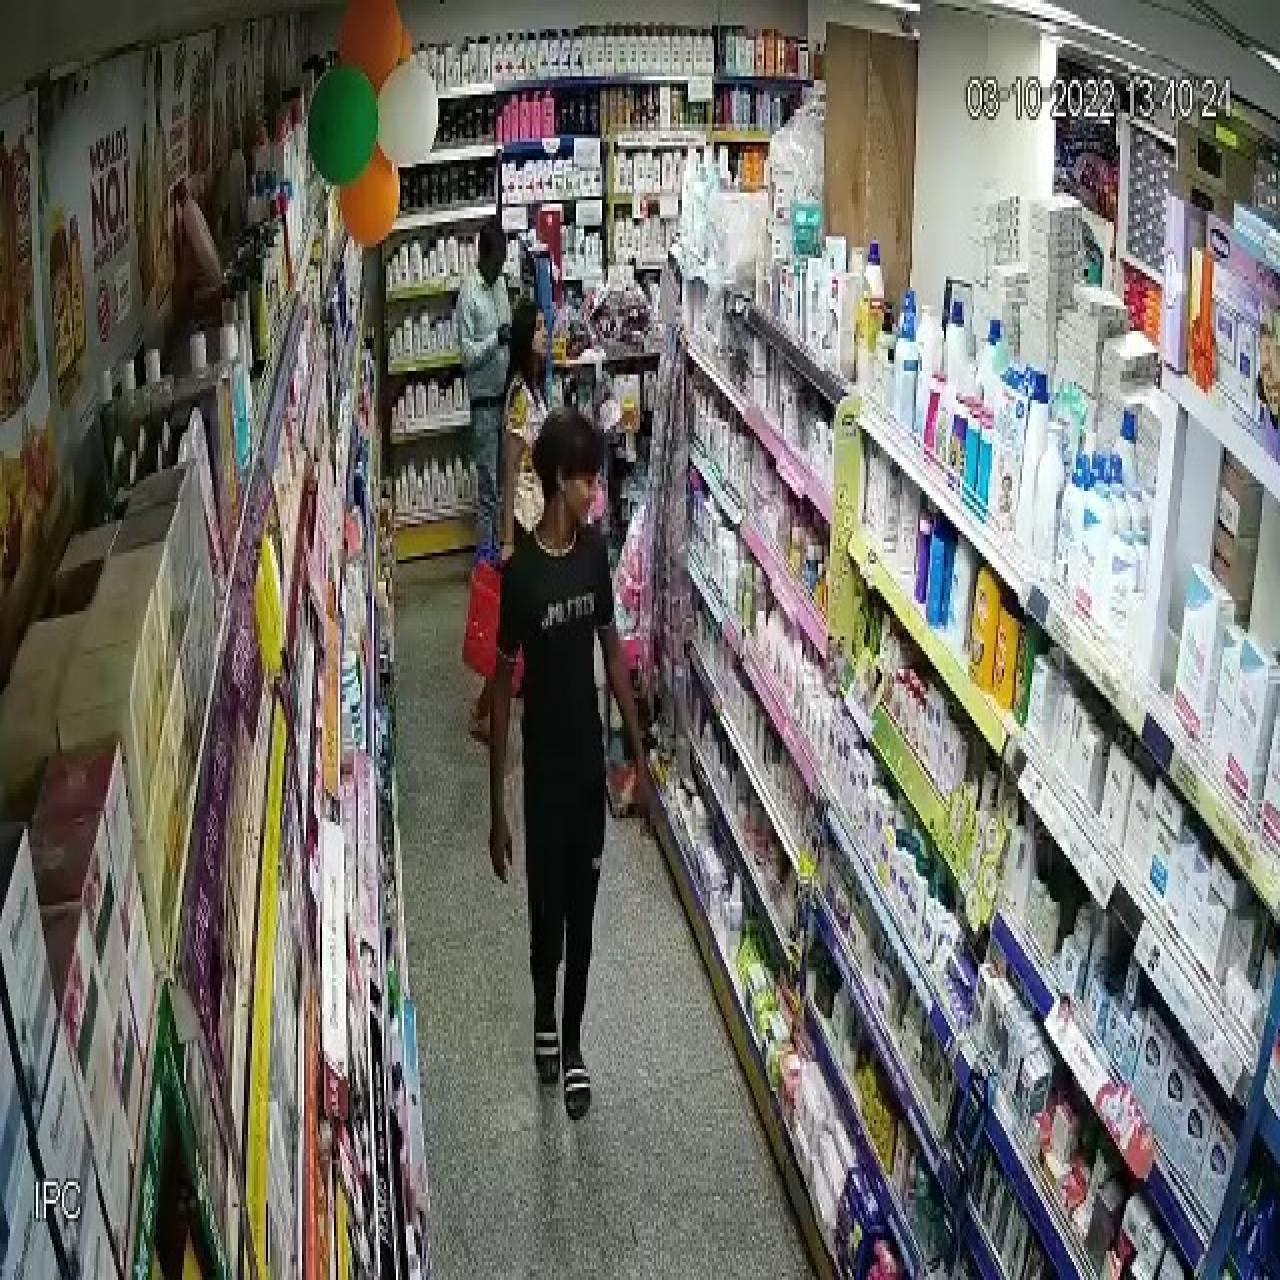normal: (471, 394, 667, 1151)
